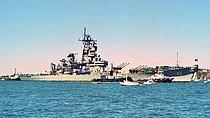MIL_Ship: (14, 25, 196, 83)
